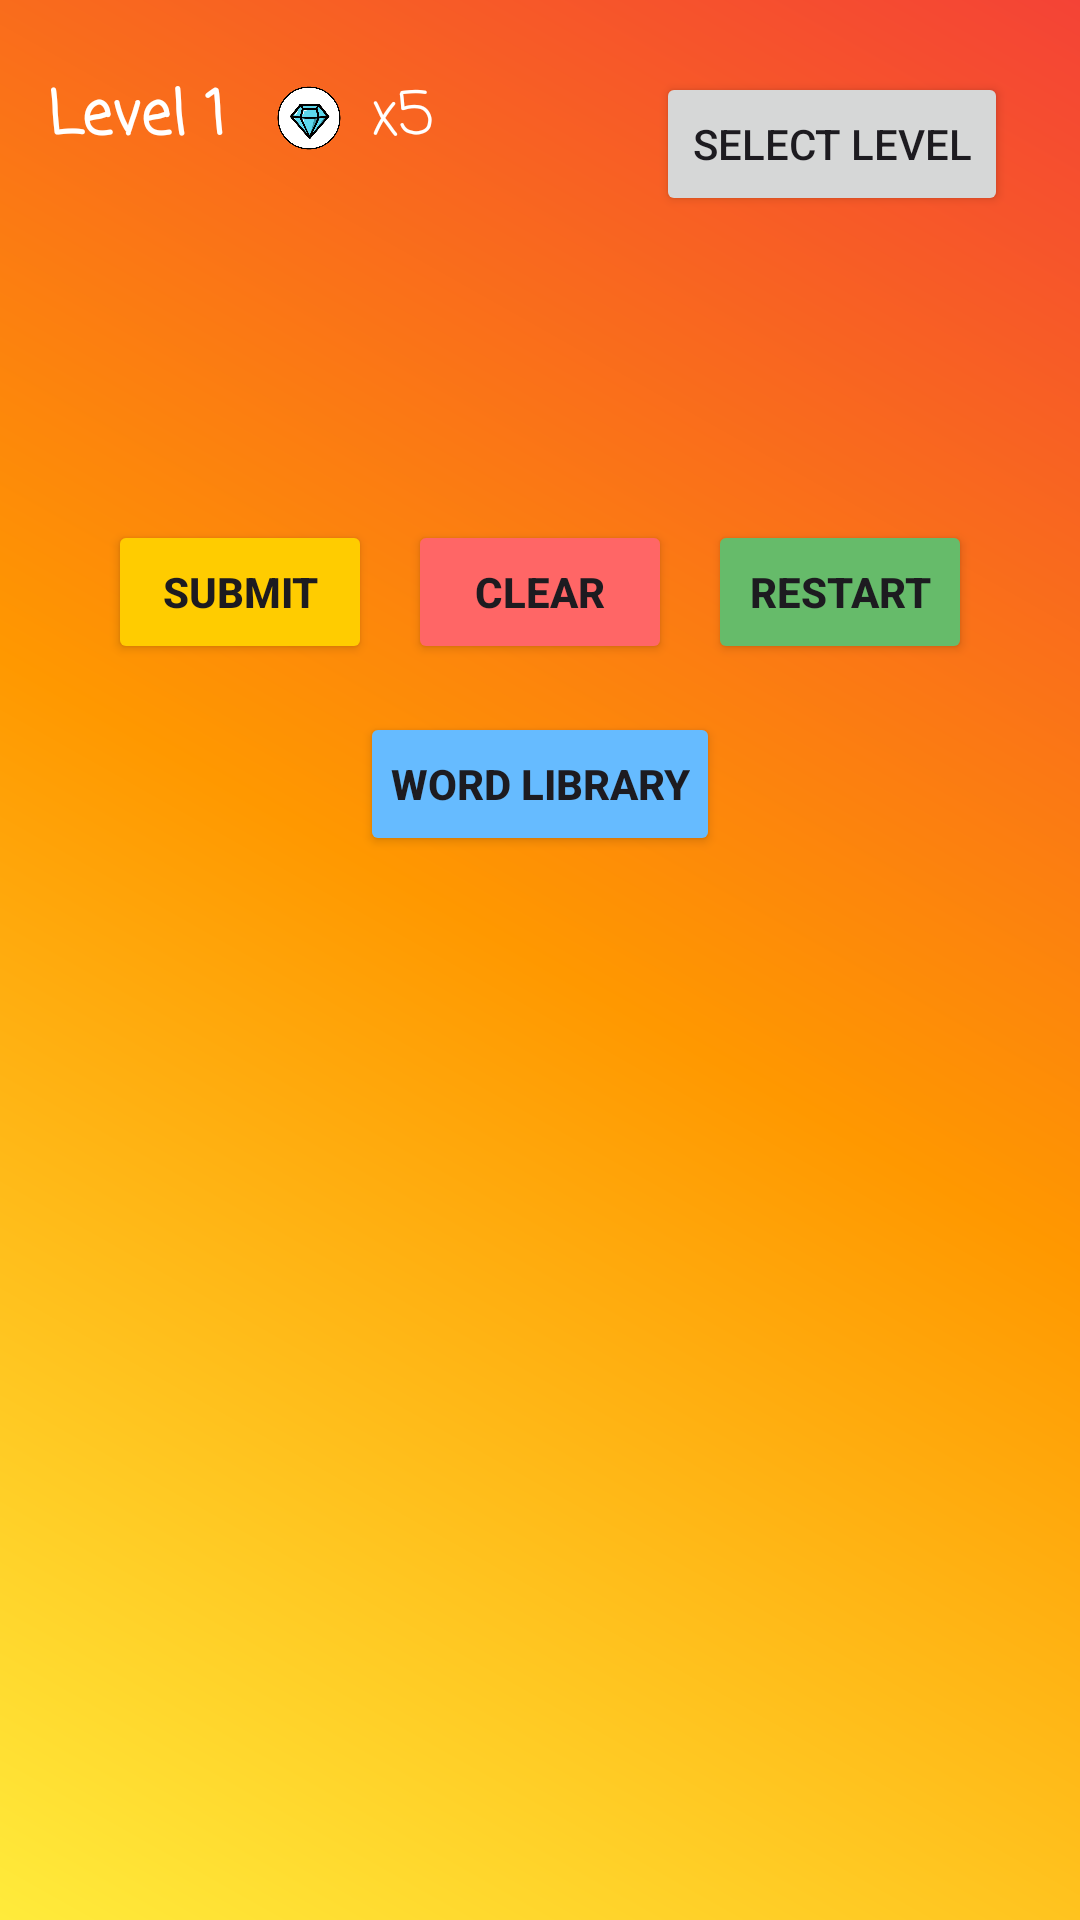

Icons on this 1080px x 1920px Android screen, each with its box as [x1, y1, x2, y2]:
Gem: [277, 86, 341, 150]
